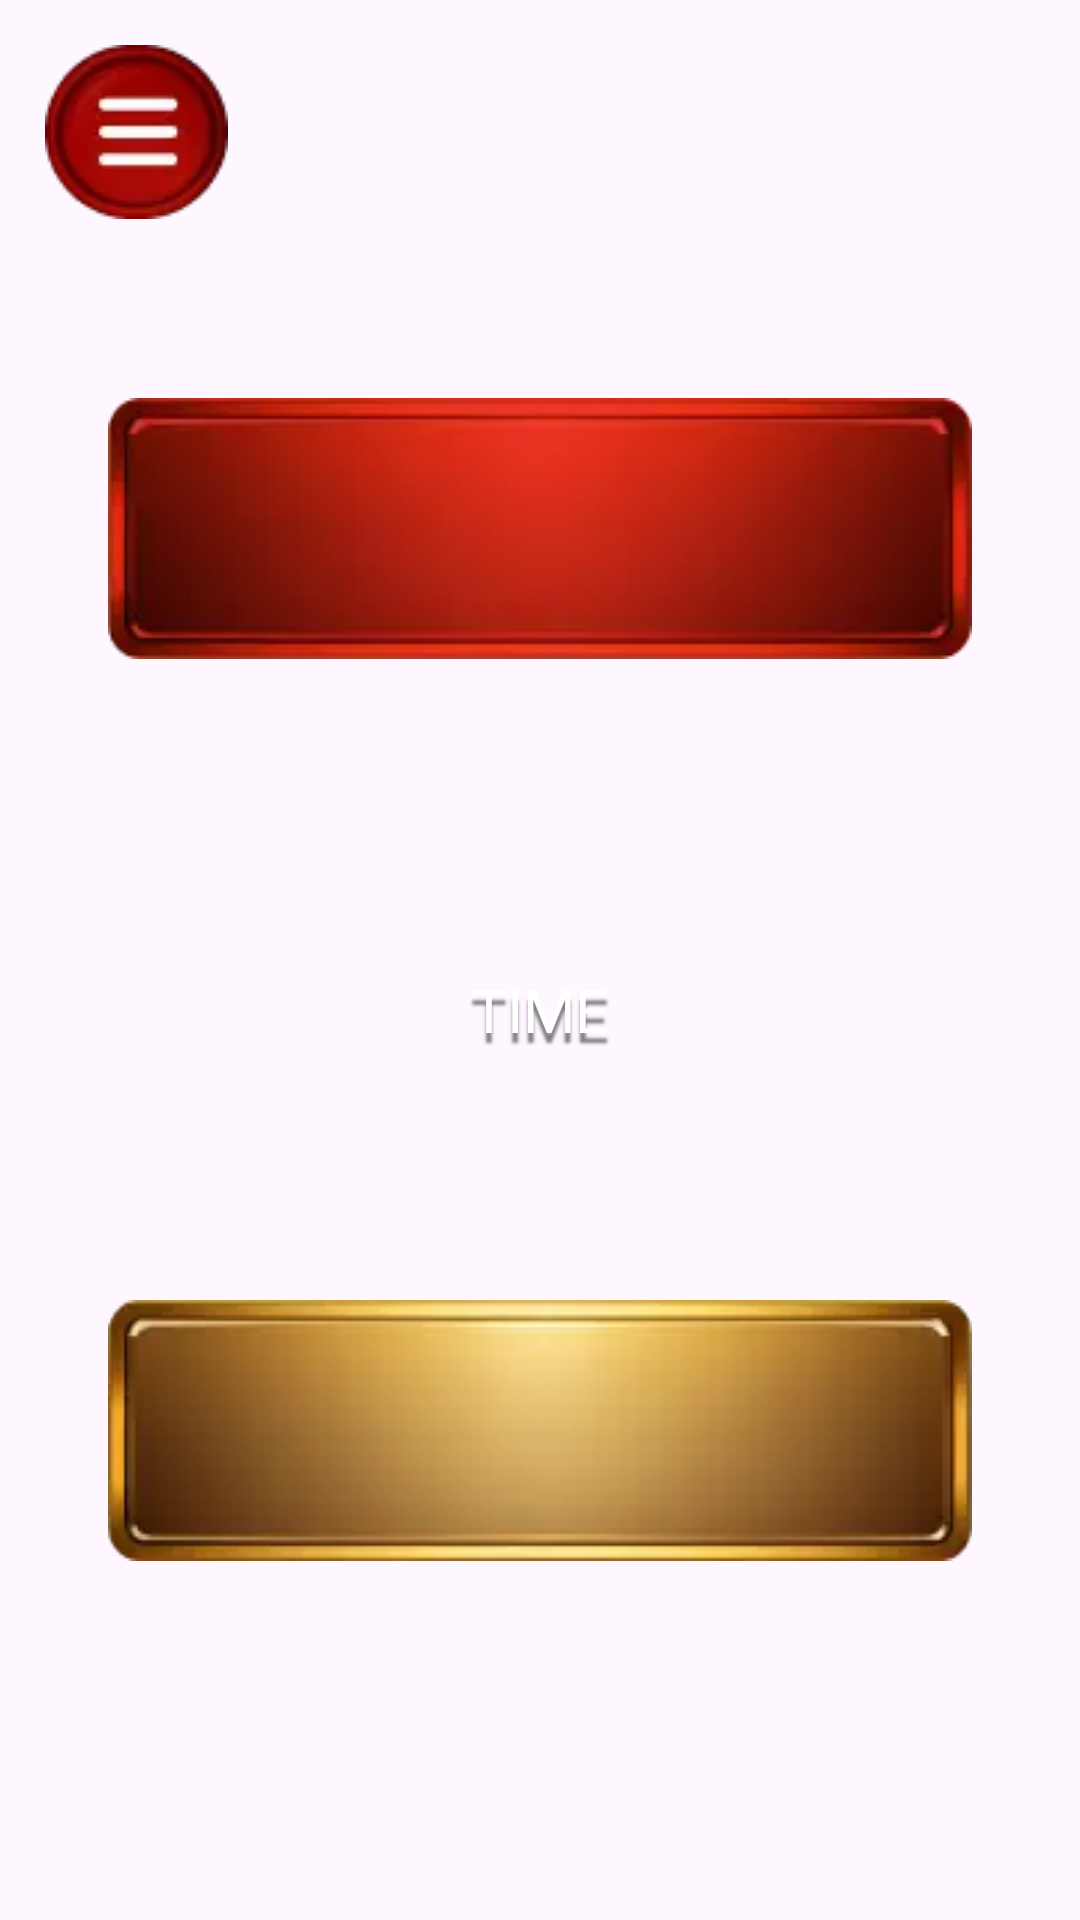

Icon click points for this 1080px x 1920px phone screenshot, format (x,y):
chose lvl: (136,132)
